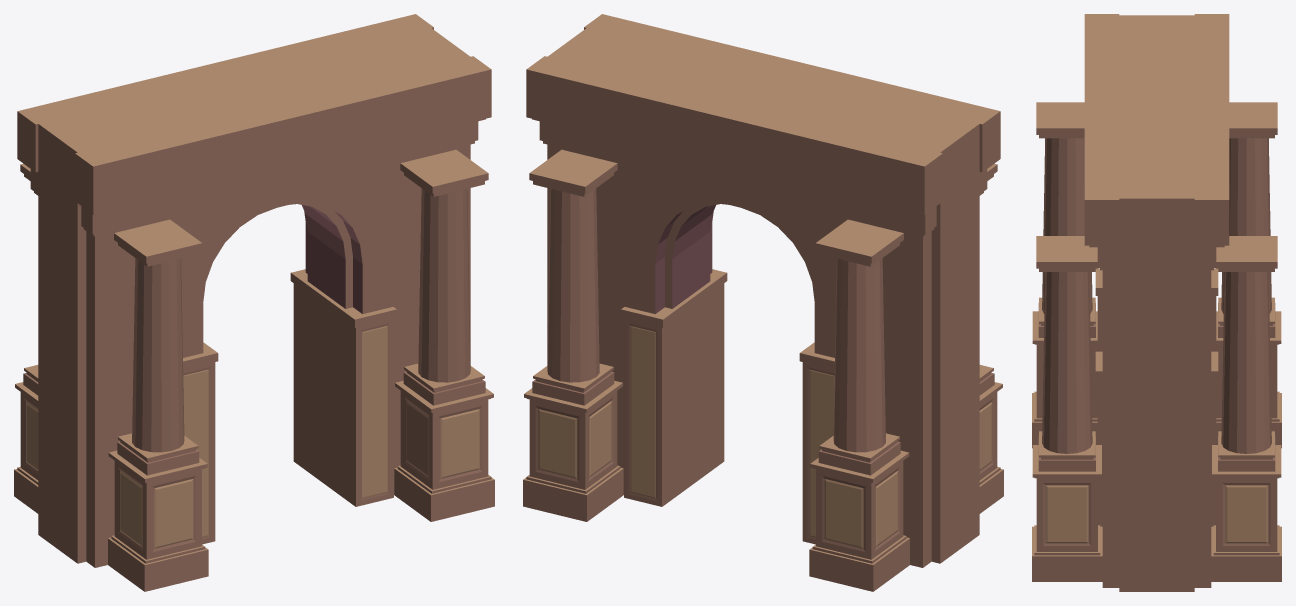
The model's file is archarch3.glb.
3 views of the same model, side by side, from view 1: azimuth 30°, elevation 25°; view 2: azimuth 150°, elevation 25°; view 3: azimuth 270°, elevation 25° (orthographic). The views are drawn at different scales.
Parts seen in each view (by area): view 1: Arch7; view 2: Arch7; view 3: Arch7.
Boxes of the visible parts, x1,y1,x2,y2 form: Arch7: (14, 14, 494, 591); Arch7: (523, 14, 1003, 591); Arch7: (1032, 14, 1281, 591).
Bounding box in the file's own units: 4.06 × 4 × 2.3.
Materials: 1 (1 with a texture image).
